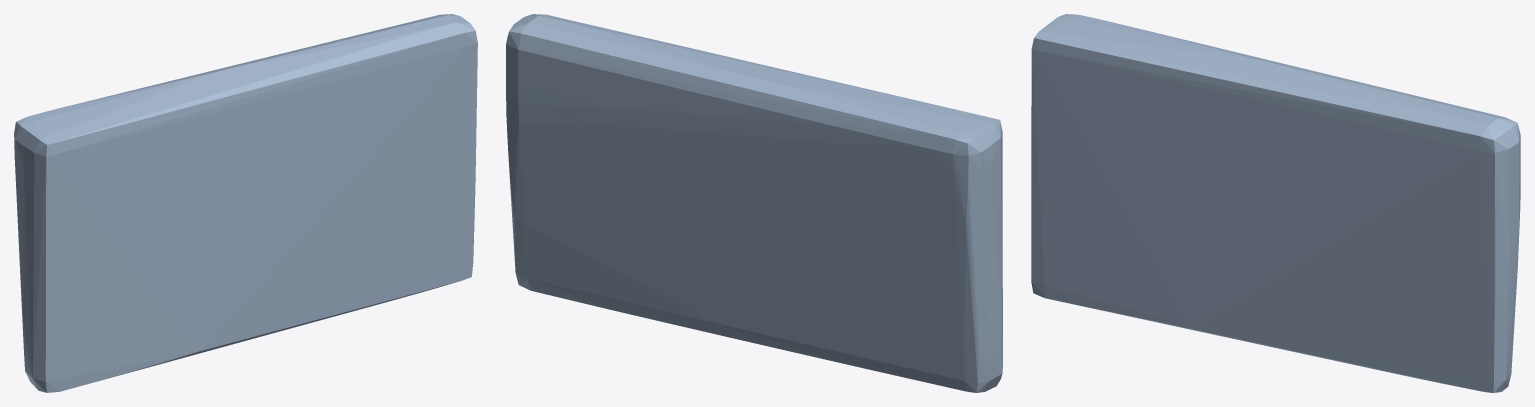
Rendered from right-hip-pitch-0_part_6.obj.
The picture shows the model from 3 angles, left to right: view 1: azimuth 30°, elevation 25°; view 2: azimuth 150°, elevation 25°; view 3: azimuth 330°, elevation 25°; orthographic projection. The views are drawn at different scales.
Bounding box in the file's own units: 0.0662 × 0.0365 × 0.00917.
